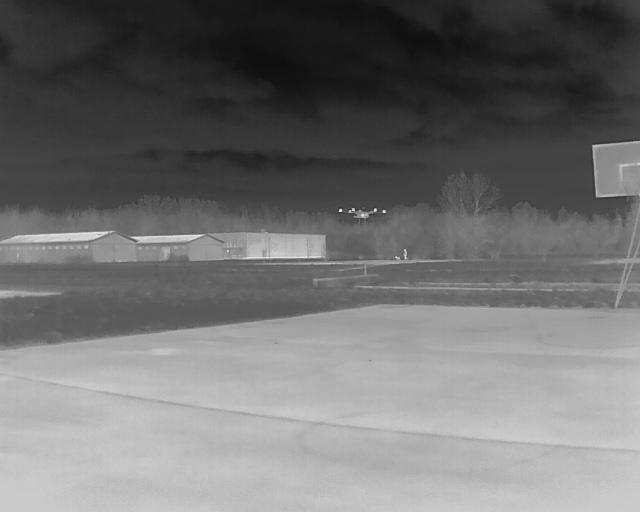drone: (332, 195, 392, 256)
